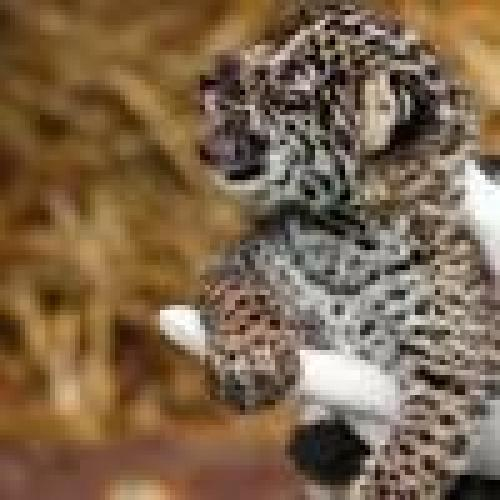jaguar_not-endangered: (199, 0, 500, 500)
